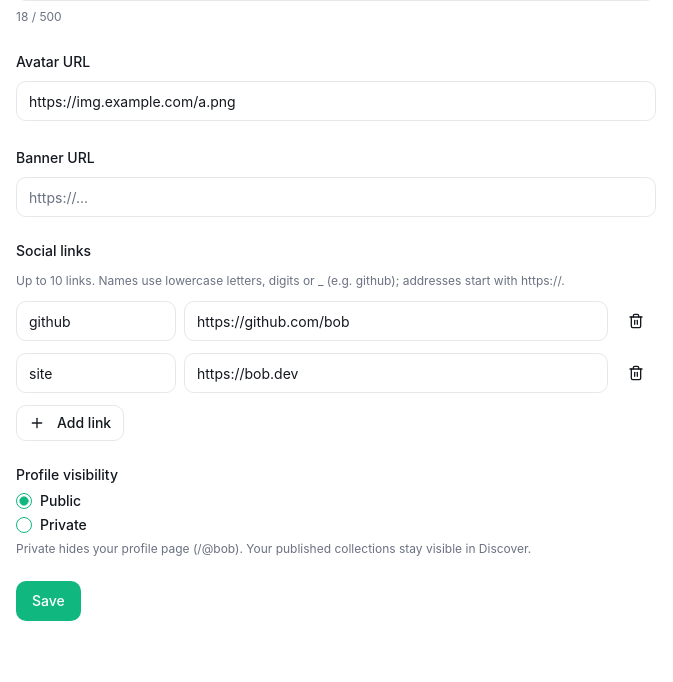
Scenario: server errors › 9: an unmapped 400 goes to the form-level alert
This screenshot has width=673, height=682.
(page scrolled)
Click the button "Save".
click(48, 601)  # box [16,581,81,621]
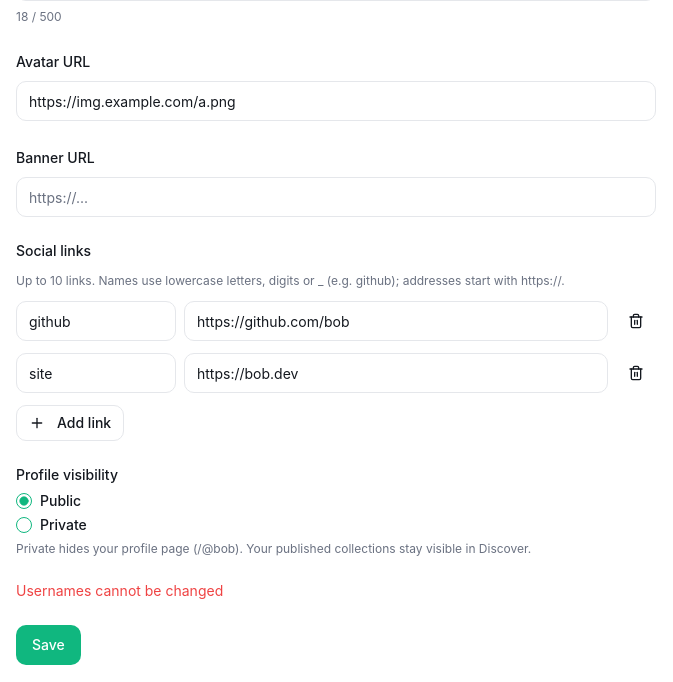
Result: the message reads "Usernames cannot be changed" at [16,582,223,599]
